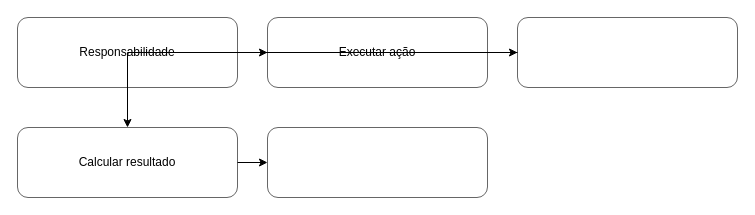
The diagram is 755 pixels wide and 215 high, and some of its shapes have lost their labels. Each missing label, with the centre of its shape:
tipo + return: the point at 377,162
void: the point at 627,52
